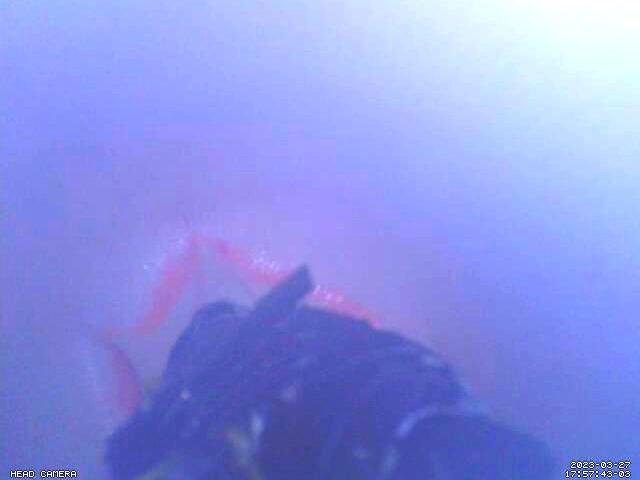head: (100, 234, 381, 415)
